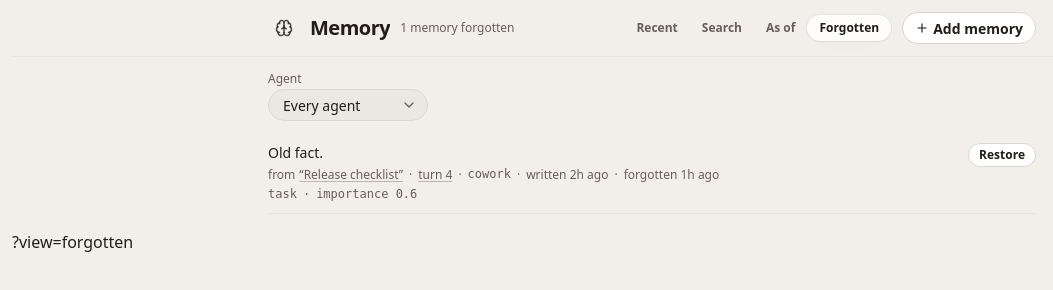
Test case: forgetting › lists what was forgotten, and a harness without restore says so in words
expect the text "forgotten 1h ago" is shown: met, box [624,166,719,184]
Step 1. Click the button with aria-label "Restore “Old fact.”" → [1002, 155], box [968,143,1036,167]
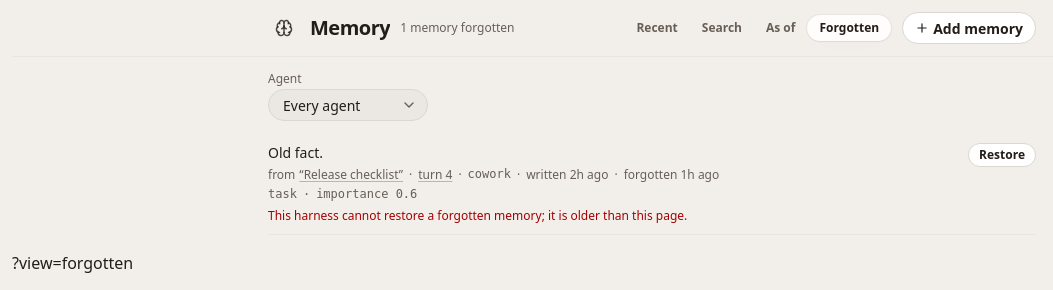
expect the message shows "cannot restore": met, box [268,207,687,224]
